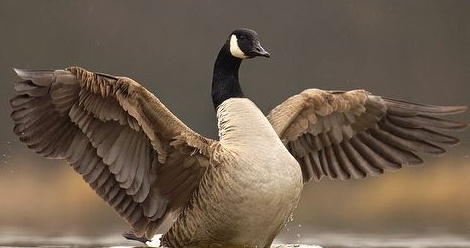goose: (8, 22, 468, 248)
